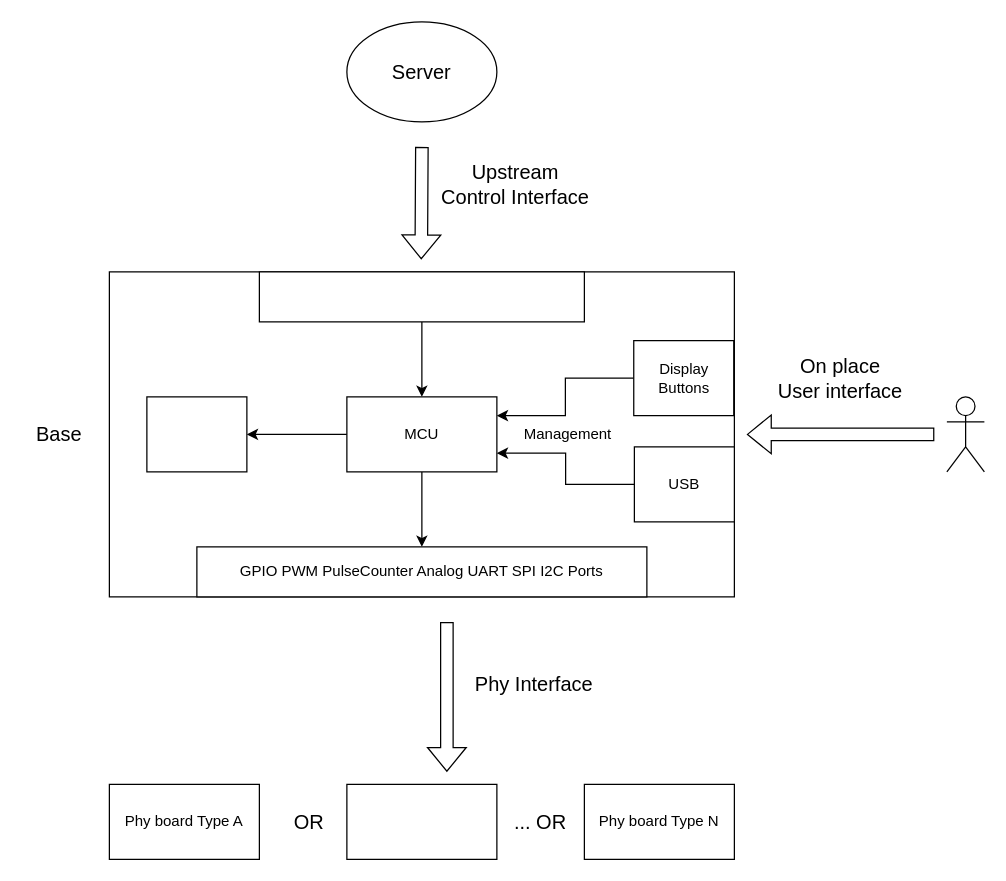
Some shapes in this 1006 by 881 pixel diagram are drawn without their labels. The centre of each missing label's shape, as x and y in pixels:
Actor: point 965,434
External FLASH: point 196,434
Phy board Type B: point 421,821
RS485 Ethernet Ports: point 421,296
